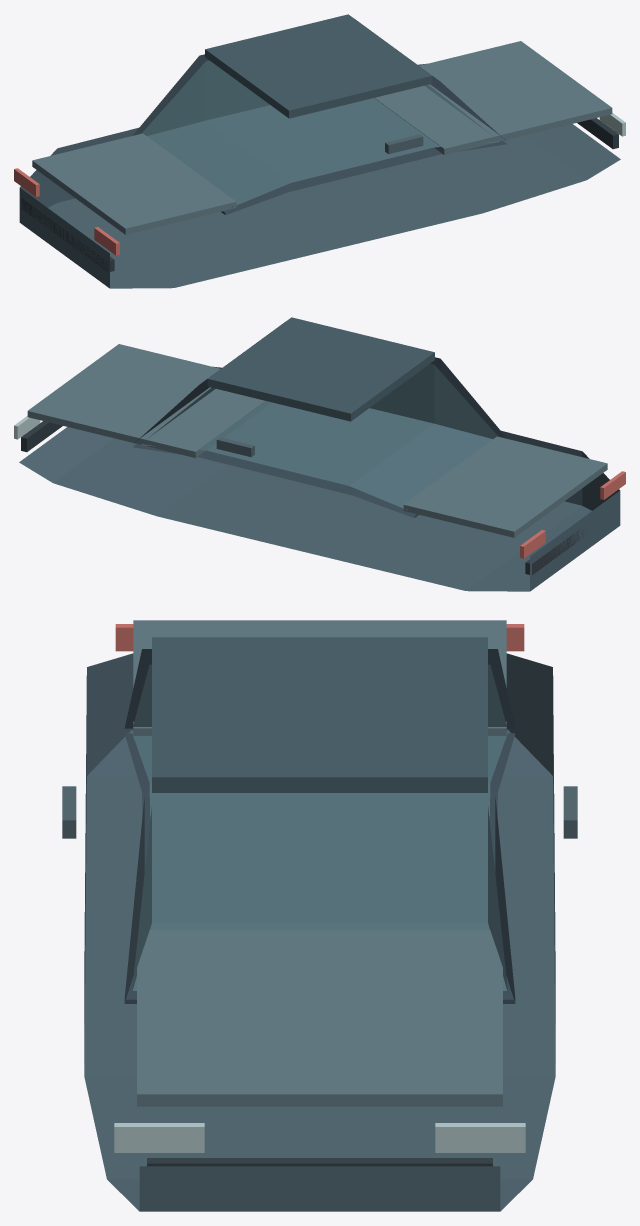
Rendered from car.glb.
3 renders of one model, top to bottom at view 1: azimuth 30°, elevation 25°; view 2: azimuth 150°, elevation 25°; view 3: azimuth 270°, elevation 25°, orthographic. The views are drawn at different scales.
Visible parts, largest first — view 1: sculpted-body, glass, hood, roof, trunk, cabin, rear-diffuser, front-grille, mirror--0.64, taillight--0.64, taillight-0.64; view 2: sculpted-body, glass, hood, roof, trunk, cabin, rear-diffuser, front-grille, mirror-0.64, taillight--0.64, taillight-0.64; view 3: sculpted-body, hood, roof, glass, trunk, cabin, front-grille, headlight--0.64, headlight-0.64, mirror--0.64, mirror-0.64.
Boxes of the visible parts, left/top/right/bottom form: sculpted-body: left=19, top=63, right=620, bottom=288; glass: left=142, top=60, right=498, bottom=207; hood: left=374, top=41, right=612, bottom=154; roof: left=205, top=14, right=432, bottom=118; trunk: left=32, top=133, right=236, bottom=234; cabin: left=132, top=19, right=507, bottom=215; rear-diffuser: left=21, top=198, right=114, bottom=271; front-grille: left=577, top=118, right=618, bottom=149; mirror--0.64: left=385, top=134, right=423, bottom=154; taillight--0.64: left=94, top=227, right=119, bottom=255; taillight-0.64: left=14, top=168, right=39, bottom=196; sculpted-body: left=19, top=366, right=620, bottom=591; glass: left=141, top=363, right=497, bottom=510; hood: left=27, top=344, right=265, bottom=457; roof: left=207, top=317, right=434, bottom=421; trunk: left=403, top=436, right=607, bottom=537; cabin: left=132, top=322, right=507, bottom=518; rear-diffuser: left=525, top=528, right=585, bottom=574; front-grille: left=21, top=421, right=62, bottom=452; mirror-0.64: left=216, top=437, right=254, bottom=457; taillight--0.64: left=600, top=471, right=625, bottom=499; taillight-0.64: left=520, top=530, right=545, bottom=558; sculpted-body: left=84, top=653, right=555, bottom=1211; hood: left=137, top=930, right=502, bottom=1106; roof: left=152, top=637, right=487, bottom=792; glass: left=132, top=664, right=507, bottom=993; trunk: left=133, top=620, right=506, bottom=740; cabin: left=124, top=649, right=515, bottom=1003; front-grille: left=147, top=1158, right=492, bottom=1166; headlight--0.64: left=114, top=1123, right=204, bottom=1152; headlight-0.64: left=435, top=1123, right=525, bottom=1152; mirror--0.64: left=62, top=786, right=76, bottom=838; mirror-0.64: left=563, top=786, right=577, bottom=838.
Size of the model in its own units: 4.71 by 1.18 by 2.06.
